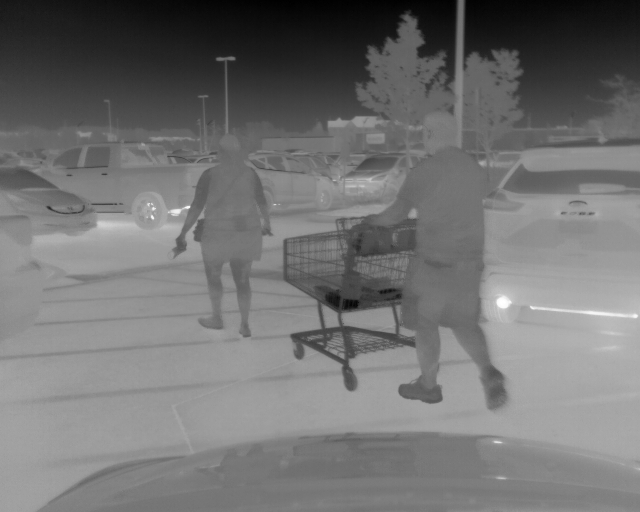car: (485, 136, 640, 337), (31, 141, 217, 230), (2, 166, 101, 240), (249, 152, 339, 211), (338, 150, 425, 205), (490, 147, 524, 172)
people: (359, 108, 509, 410), (170, 135, 275, 340)
